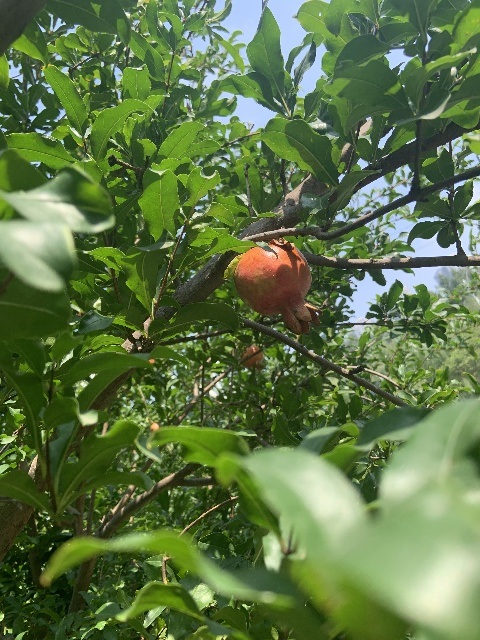ripe: (234, 242, 323, 335), (241, 345, 264, 372)
